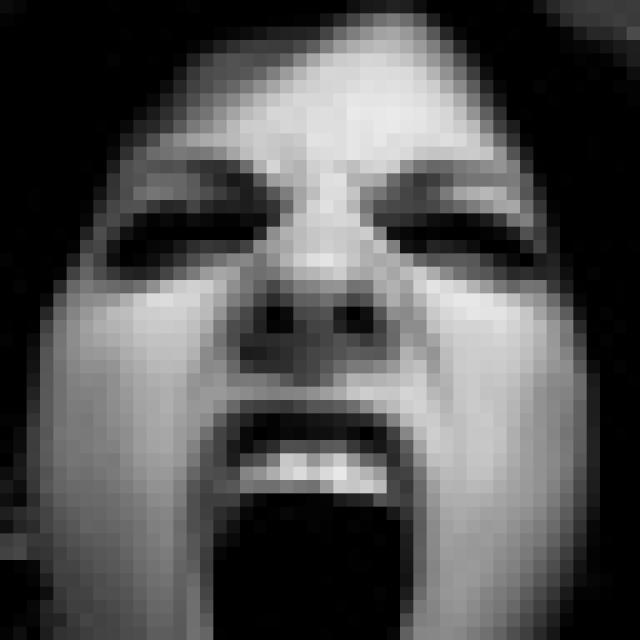angry: (102, 146, 559, 640)
